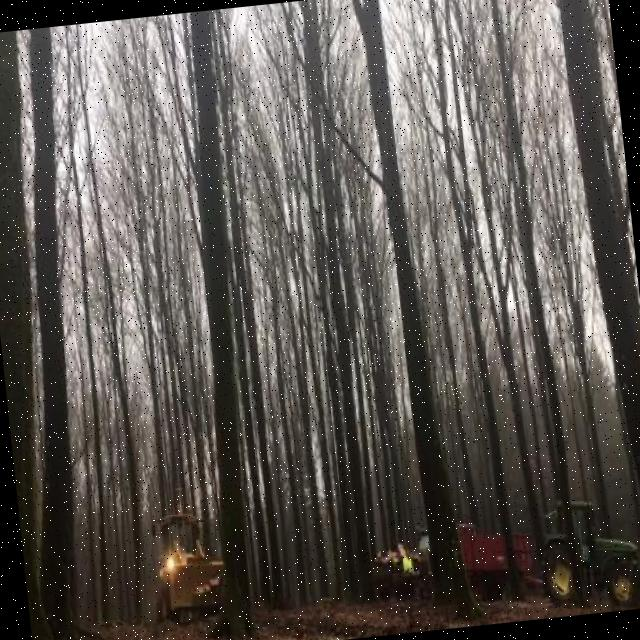Dump Truck: (414, 512, 536, 618)
